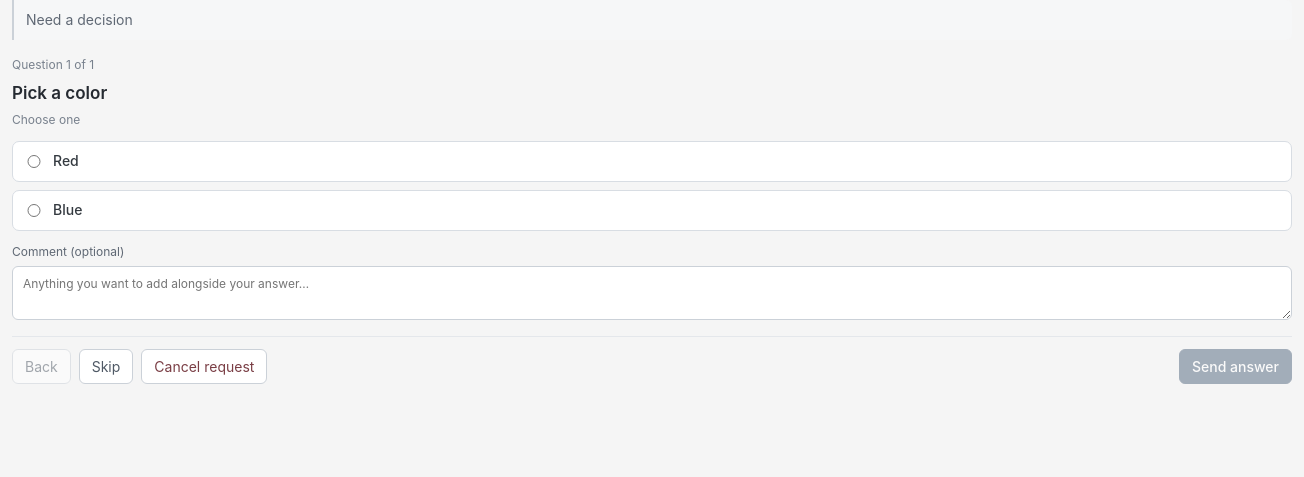
Test: QuestionRich — awaiting-input, single question, single-select › shows a "submitted, waiting" message and disables inputs once acked
The width and height of the screenshot is (1304, 477).
Click the radio button labelled "Red" at [34, 162], box [25,155,43,168]
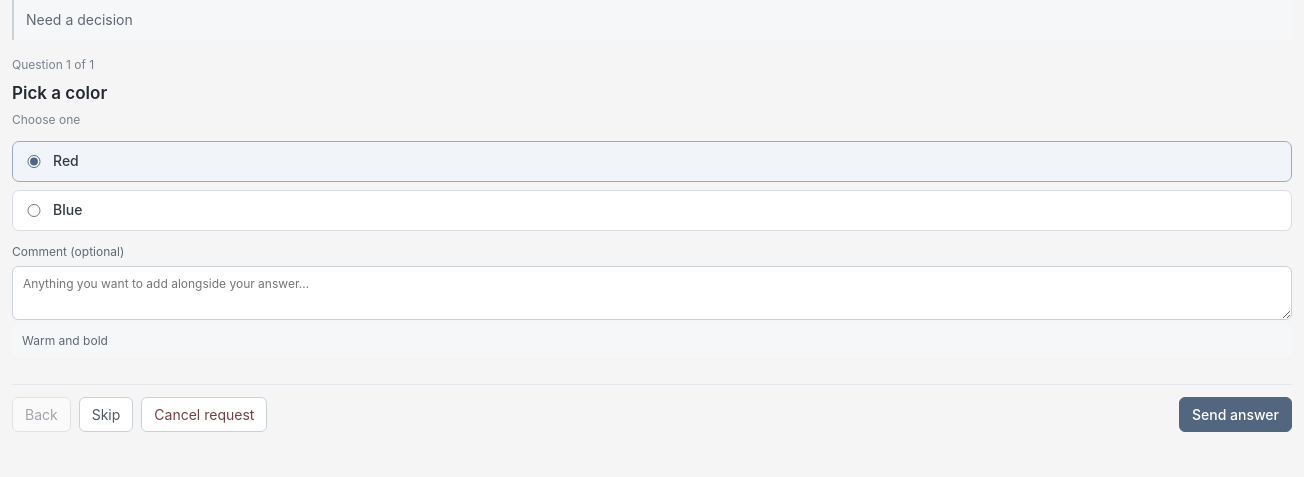
Click the button with test id "question-submit" at [1236, 414], box [1179,397,1292,432]
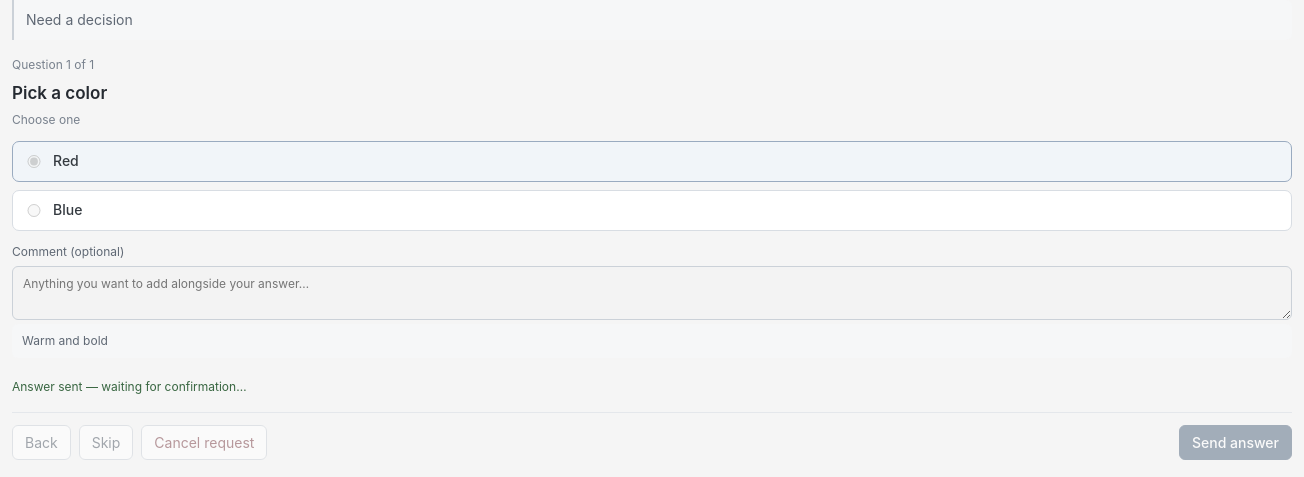
Check: the text with test id "question-submitted" shows "waiting", box [12,379,246,394]
Check: the radio button labelled "Red" is disabled, box [25,155,43,168]
